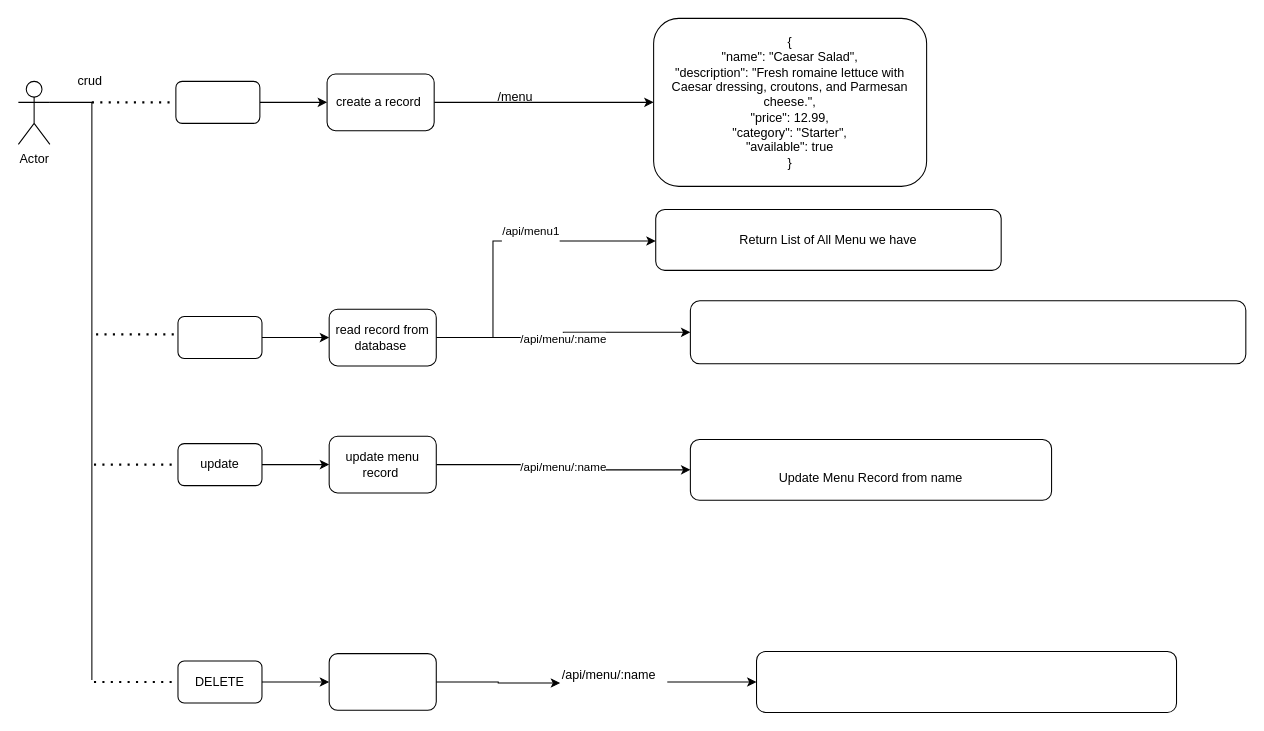
The diagram is 1264 pixels wide and 731 high, and some of its shapes have lost their labels. Here are the shapes that lost their labels. From the top down, the centre of each, then its label:
point 217,101: create
point 219,337: read
point 967,332: return from name
point 382,681: Delete Menu Record
point 966,681: Delete Menu Record from name
